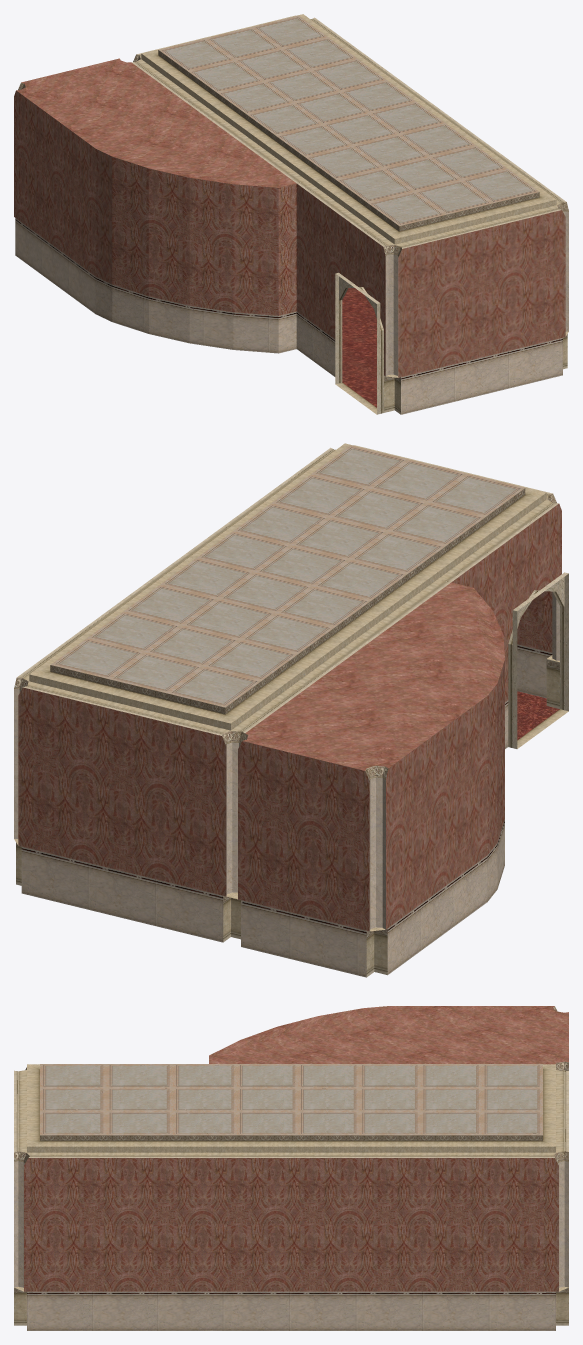
The model's file is ply_nboo_house_m_s01_fp1_r6_roomb1_mesh_r6.fbx.
3 views of the same model, one above another, from view 1: azimuth 30°, elevation 25°; view 2: azimuth 150°, elevation 25°; view 3: azimuth 270°, elevation 25° (orthographic). The views are drawn at different scales.
Visible parts, largest first — view 1: mesh_node; view 2: mesh_node; view 3: mesh_node.
Boxes of the visible parts, x1,y1,x2,y2 form: mesh_node: (14, 14, 568, 414); mesh_node: (14, 443, 568, 977); mesh_node: (14, 1006, 568, 1330).
Size of the model in its own units: 8.3 by 4.7 by 12.8.
